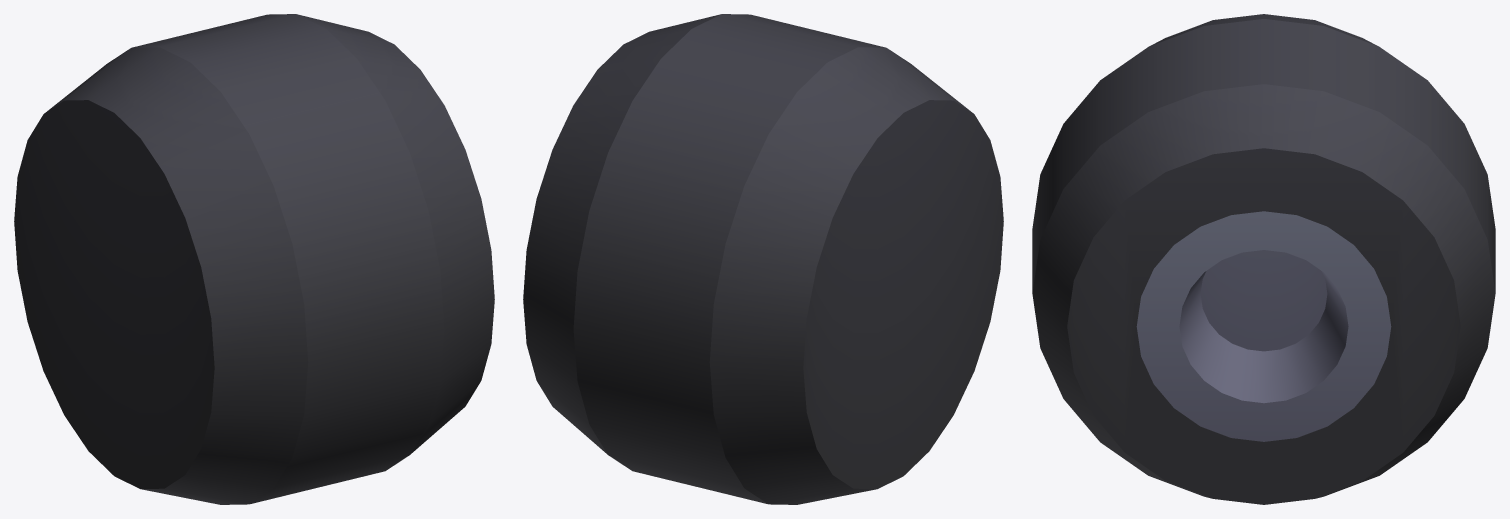
File: wheel-tractor-dark-front.fbx
3 renders of one model, left to right at view 1: azimuth 30°, elevation 25°; view 2: azimuth 150°, elevation 25°; view 3: azimuth 270°, elevation 25°, orthographic.
Visible parts, largest first — view 1: wheel-tractor-dark-front; view 2: wheel-tractor-dark-front; view 3: wheel-tractor-dark-front.
Part boxes in pixels (box(x1,y1,x2,y2)): wheel-tractor-dark-front: box(14, 14, 494, 504); wheel-tractor-dark-front: box(523, 14, 1003, 504); wheel-tractor-dark-front: box(1032, 14, 1495, 504).
Size of the model in its own units: 36.93 by 53.86 by 53.86.
Materials: 1 (1 with a texture image).
